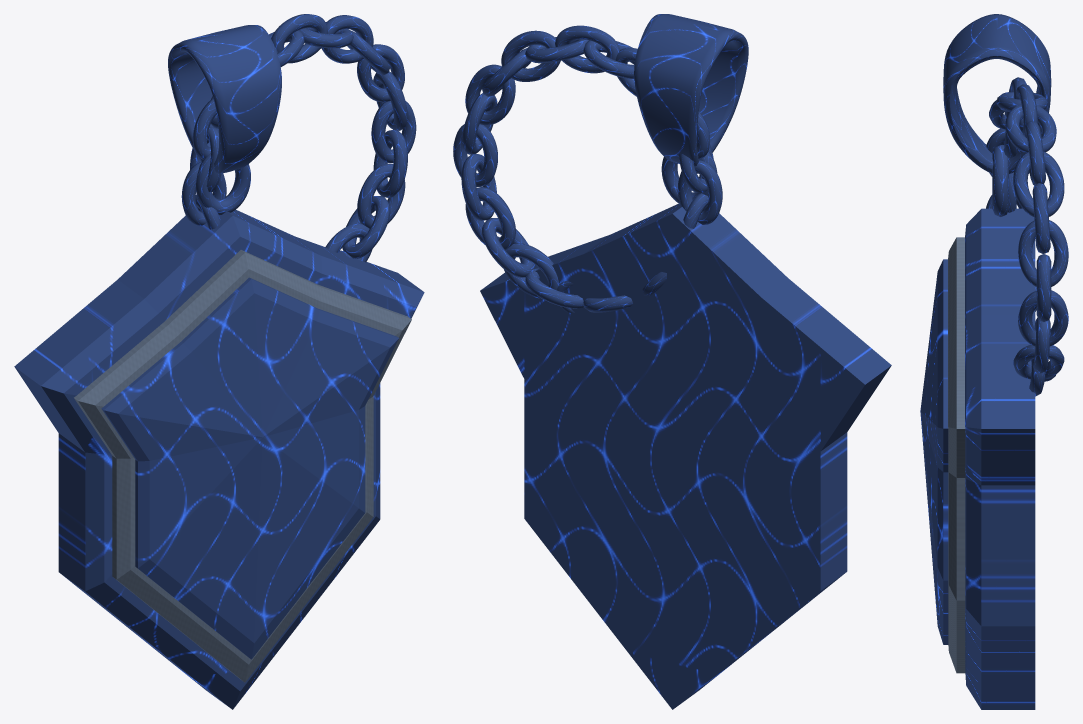
Rendered from nightglass_pendant.glb.
3 views of the same model, side by side, from view 1: azimuth 30°, elevation 25°; view 2: azimuth 150°, elevation 25°; view 3: azimuth 270°, elevation 25° (orthographic).
Parts seen in each view (by area): view 1: Blue black polished nightglass alloy, Cold blue polished shield bevel; view 2: Blue black polished nightglass alloy; view 3: Blue black polished nightglass alloy, Cold blue polished shield bevel.
Part boxes in pixels (<box>): Blue black polished nightglass alloy: <box>14,14,424,709</box>; Cold blue polished shield bevel: <box>74,250,411,682</box>; Blue black polished nightglass alloy: <box>453,14,891,709</box>; Blue black polished nightglass alloy: <box>920,14,1068,709</box>; Cold blue polished shield bevel: <box>948,237,965,673</box>.
Bounding box in the file's own units: 0.0275 × 0.0434 × 0.00858.
2 materials, 2 textured.
